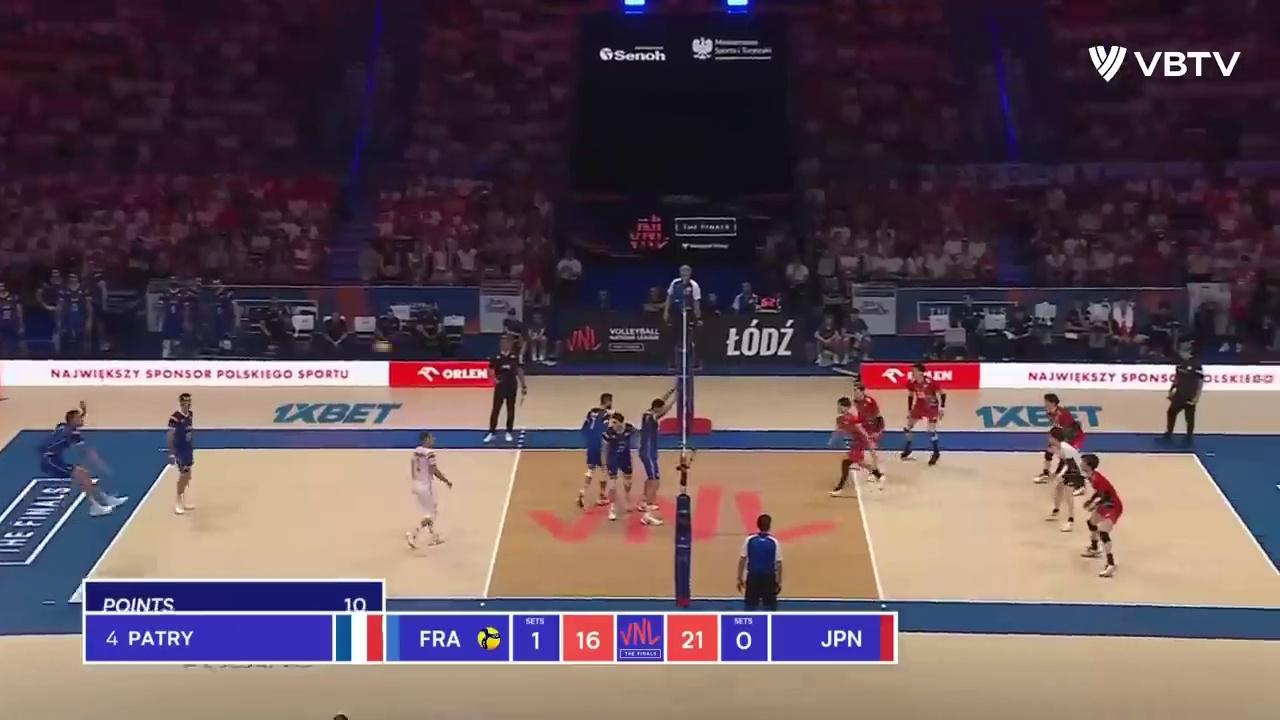ball: (372, 340, 392, 352)
